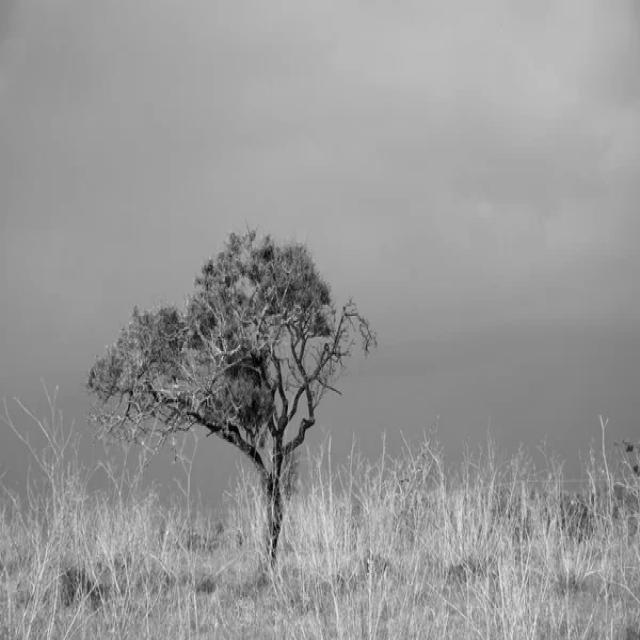Tree: (86, 230, 376, 565)
